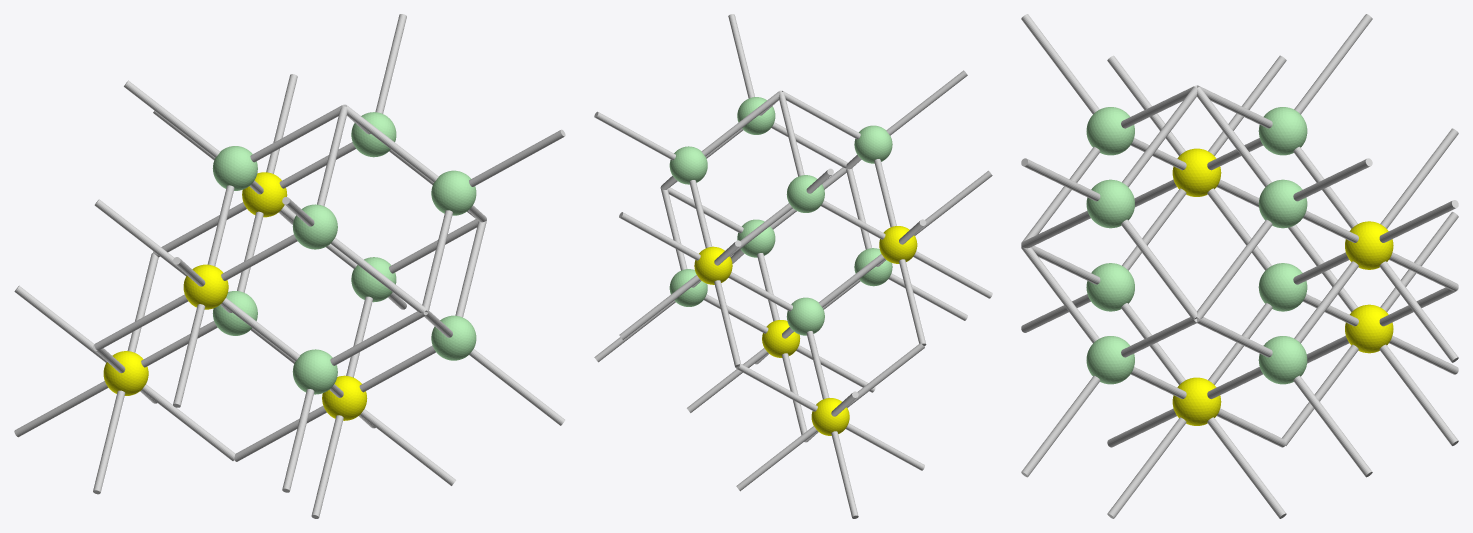
The model's file is structure_mpstyle.glb.
3 renders of one model, left to right at view 1: azimuth 30°, elevation 25°; view 2: azimuth 150°, elevation 25°; view 3: azimuth 270°, elevation 25°, orthographic. The views are drawn at different scales.
Visible parts, largest first — view 1: world; view 2: world; view 3: world.
Boxes of the visible parts, x1,y1,x2,y2 form: world: (14, 14, 565, 518); world: (594, 14, 992, 518); world: (1021, 14, 1458, 518).
Size of the model in its own units: 7.2 by 7.2 by 7.2.
